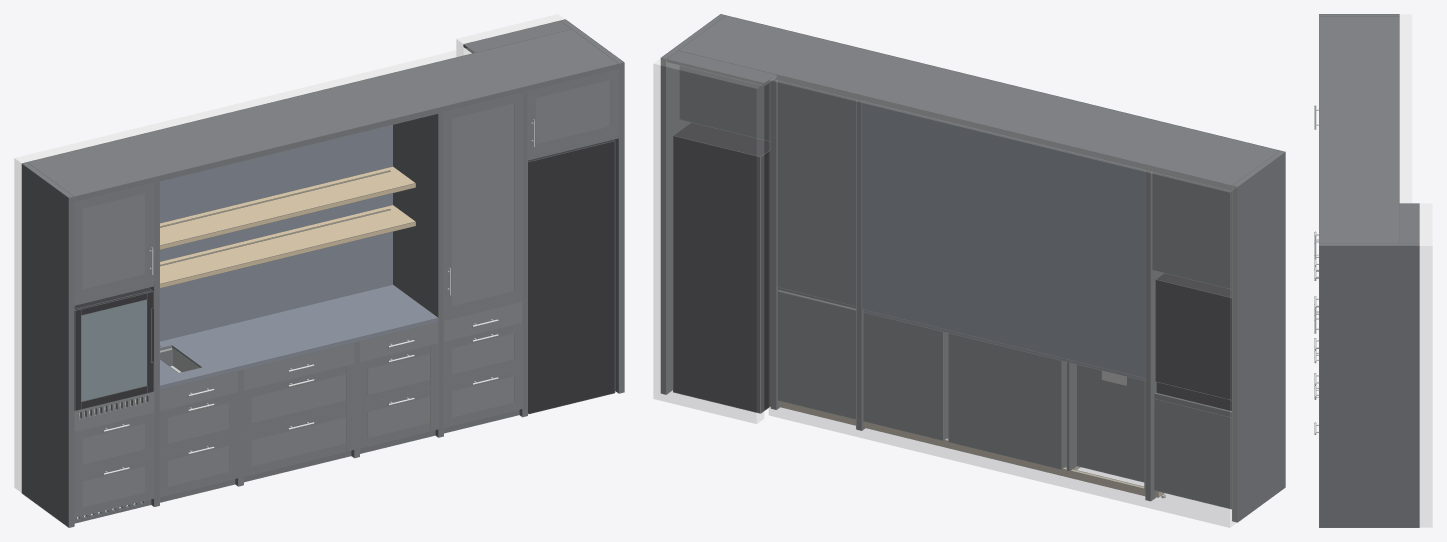
File: modell.glb
3 views of the same model, side by side, from view 1: azimuth 30°, elevation 25°; view 2: azimuth 150°, elevation 25°; view 3: azimuth 270°, elevation 25° (orthographic). The views are drawn at different scales.
Size of the model in its own units: 4233 by 2403 by 912.
